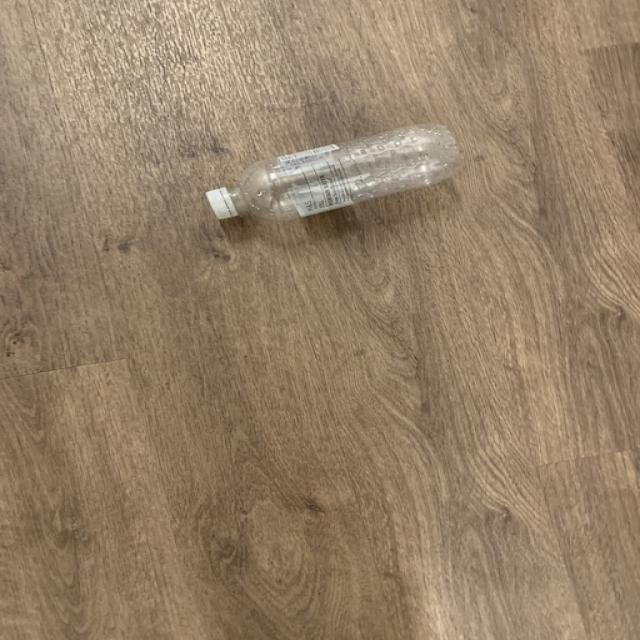BotolPlastik: (204, 121, 462, 224)
